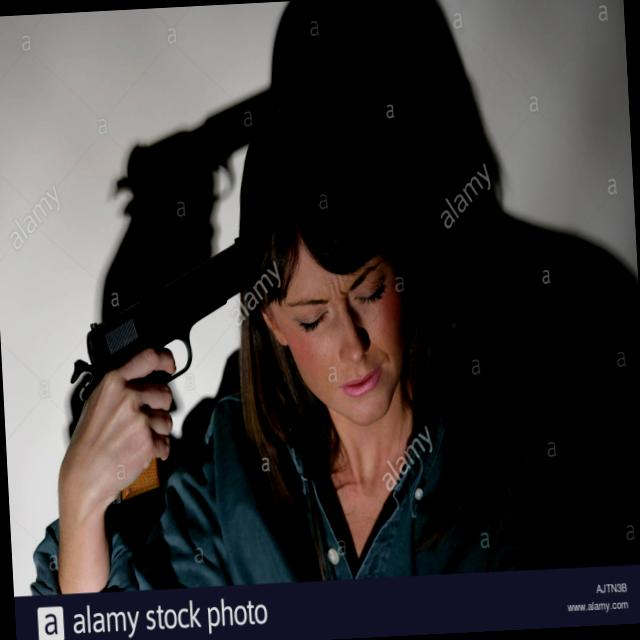handgun: (60, 221, 273, 448)
